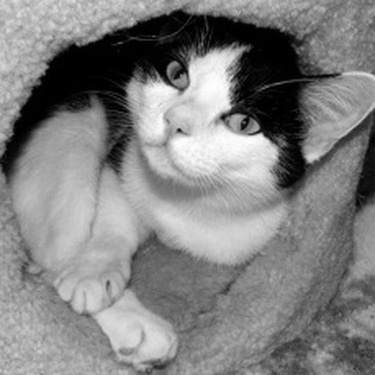cat: (17, 10, 372, 369)
